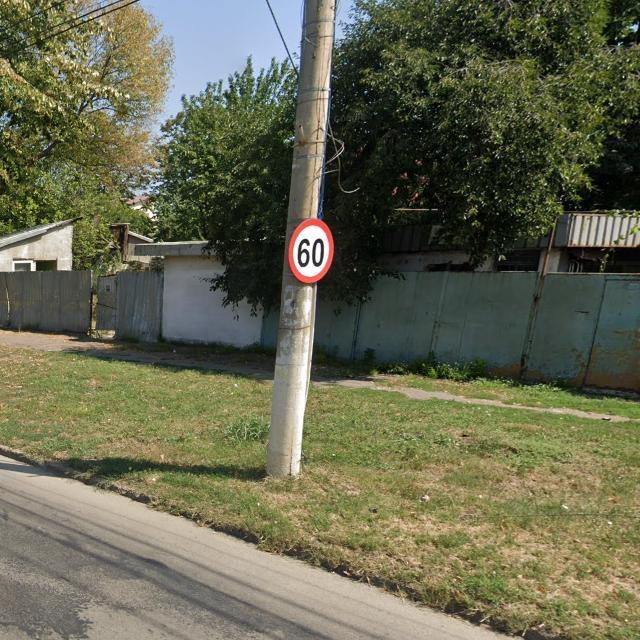forb_speed_over_60: (288, 218, 335, 284)
